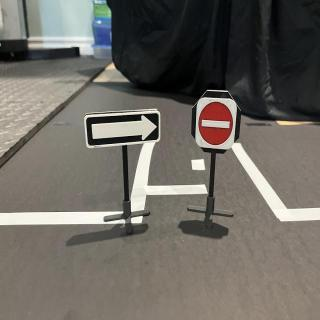sign_noentry: (196, 96, 238, 156)
sign_oneway_right: (83, 109, 163, 151)
